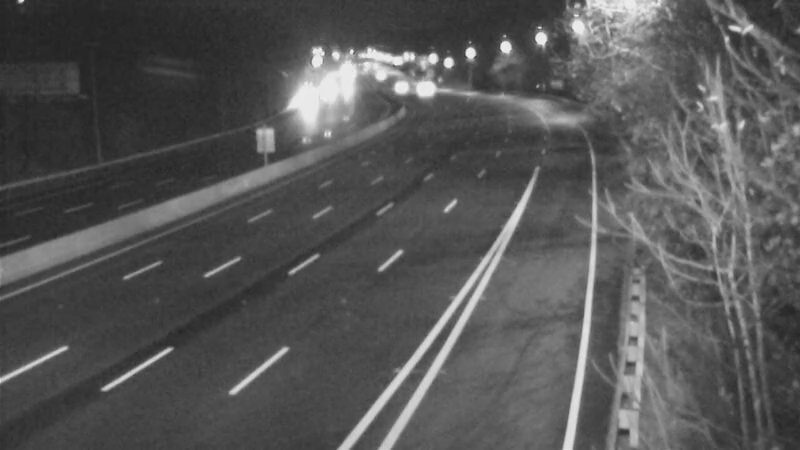vehicle: (372, 61, 422, 111), (401, 59, 451, 109)
